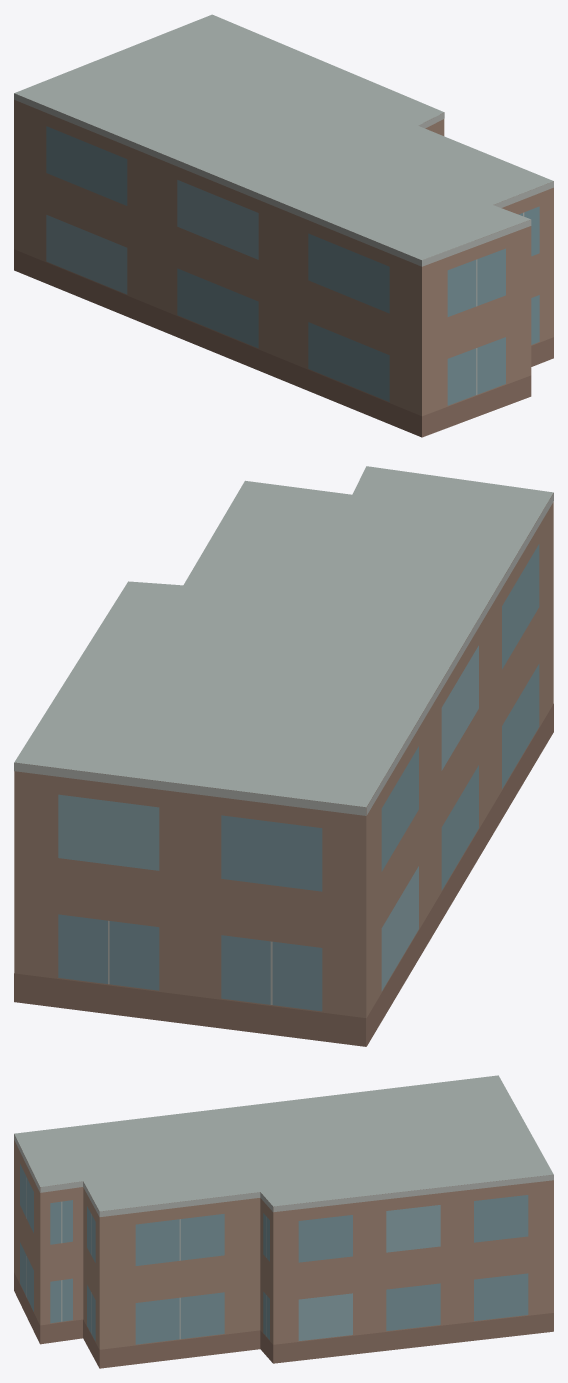
The model's file is survey-upis-32760109.glb.
The picture shows the model from 3 angles, top to bottom: view 1: azimuth 30°, elevation 25°; view 2: azimuth 150°, elevation 25°; view 3: azimuth 270°, elevation 25°; orthographic projection. The views are drawn at different scales.
Parts seen in each view (by area): view 1: survey-upis-32760109.tmp; view 2: survey-upis-32760109.tmp; view 3: survey-upis-32760109.tmp.
Part boxes in pixels (x1,y1,x2,y2): survey-upis-32760109.tmp: (14, 14, 553, 437); survey-upis-32760109.tmp: (14, 466, 553, 1046); survey-upis-32760109.tmp: (14, 1075, 553, 1368).
Size of the model in its own units: 12.47 by 6.7 by 20.88.
